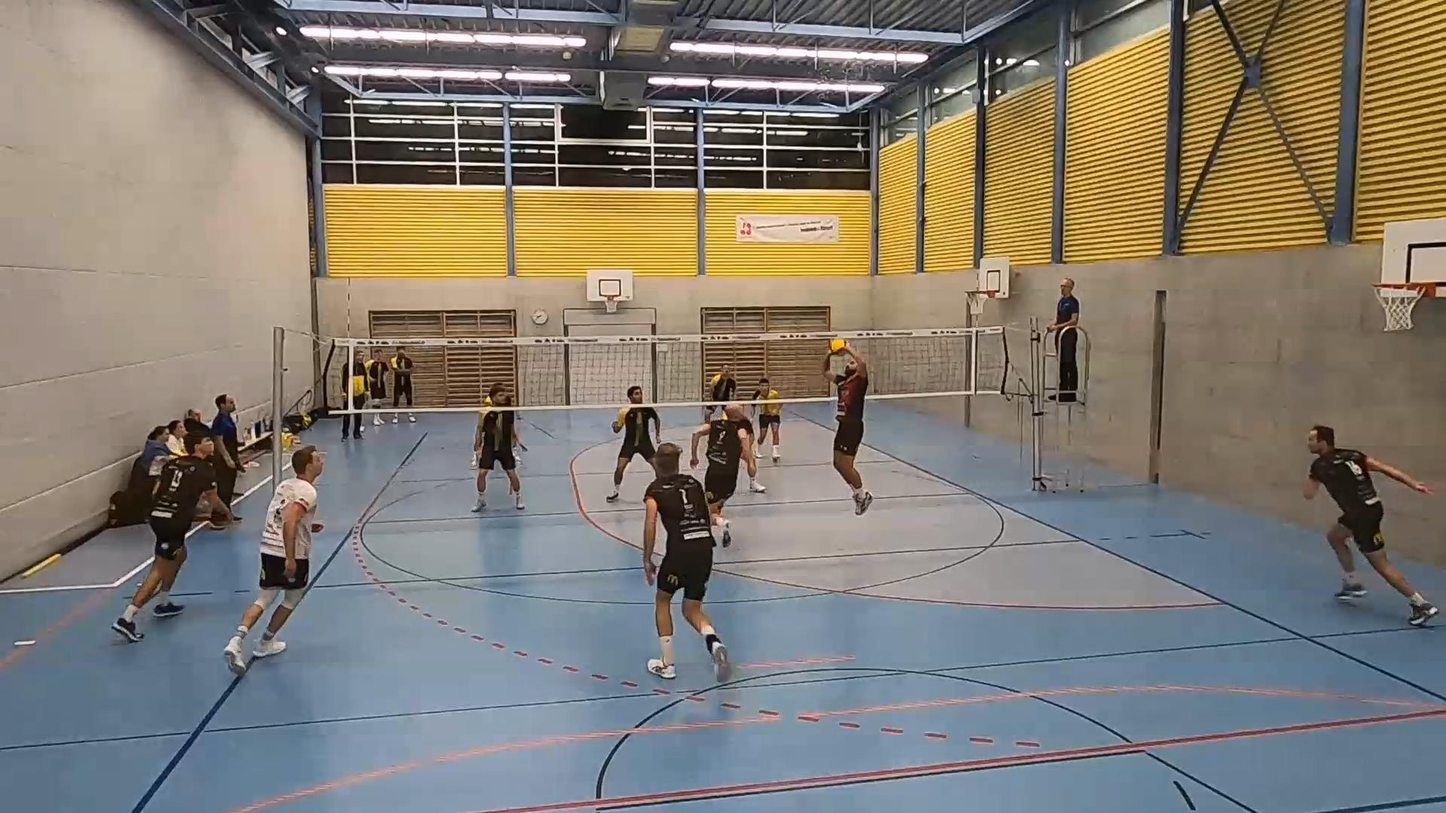Player: (1304, 425, 1438, 626), (112, 434, 229, 641), (224, 446, 324, 674), (642, 443, 728, 681), (691, 405, 751, 547), (472, 391, 524, 512), (606, 406, 661, 501), (734, 404, 766, 492), (703, 364, 736, 422), (755, 403, 782, 462), (478, 382, 505, 426)
Set: (826, 348, 876, 515)
ball: (825, 339, 848, 354)
